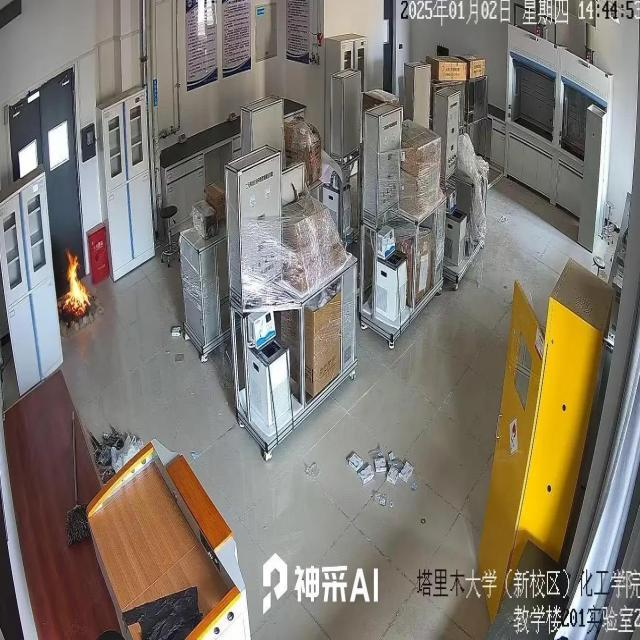smoke: (62, 246, 92, 316)
